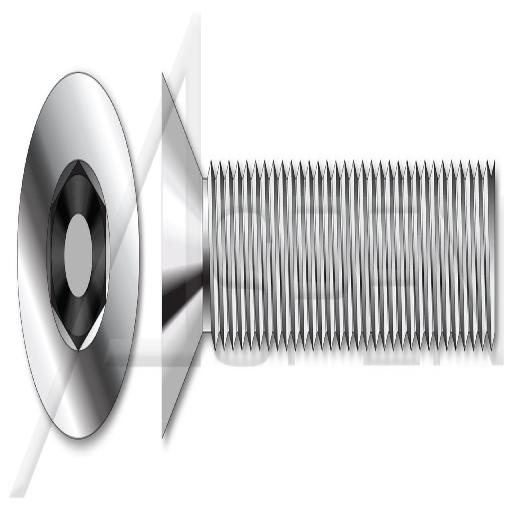Hex-Allen: (18, 72, 140, 441)
